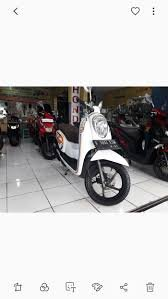motor: (50, 101, 138, 207)
